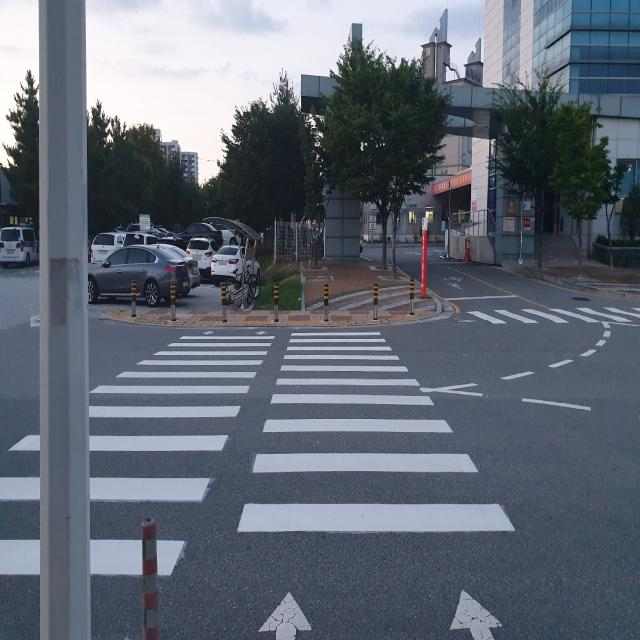횡단보도: (0, 330, 516, 639), (453, 291, 640, 334)
